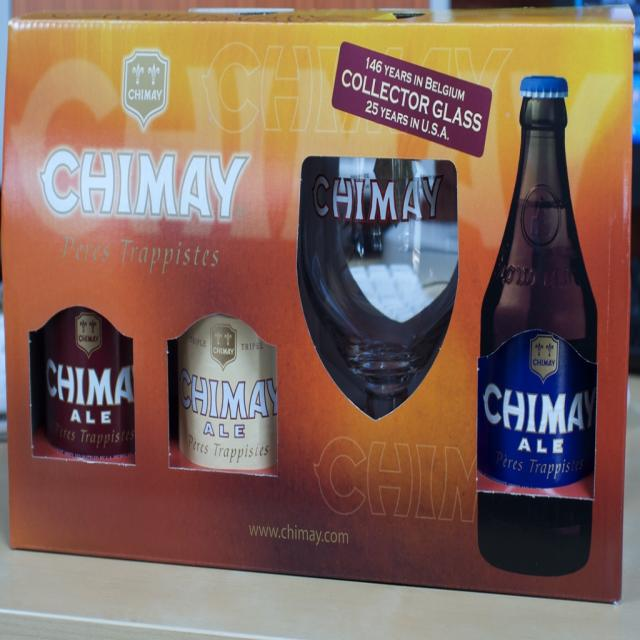chimay: (477, 332, 599, 492), (37, 143, 253, 230), (30, 306, 138, 461), (176, 315, 280, 471), (309, 168, 449, 224), (129, 87, 165, 103)
